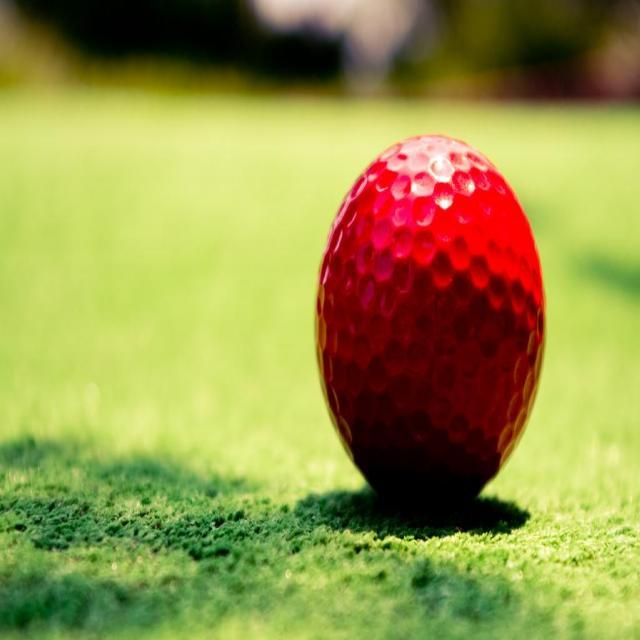GolfBall: (300, 119, 557, 519)
